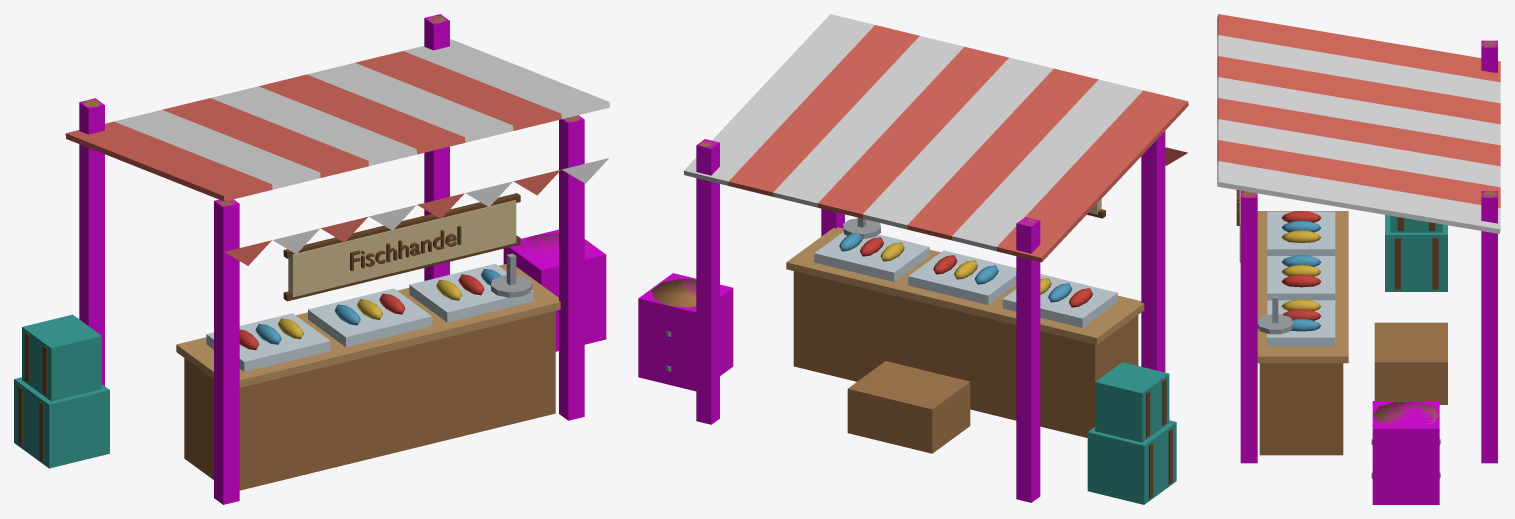
Rendered from trader_stall-EeB0j7eA.glb.
3 renders of one model, left to right at view 1: azimuth 30°, elevation 25°; view 2: azimuth 150°, elevation 25°; view 3: azimuth 270°, elevation 25°, orthographic. The views are drawn at different scales.
Parts seen in each view (by area): view 1: trader_stall, COLP_trader_stall, COL_trader_stall; view 2: trader_stall, COLP_trader_stall, COL_trader_stall; view 3: trader_stall, COLP_trader_stall, COL_trader_stall.
Boxes of the visible parts, <box> form: trader_stall: <box>14,16,609,490</box>; COLP_trader_stall: <box>79,14,584,504</box>; COL_trader_stall: <box>503,229,606,351</box>; trader_stall: <box>652,14,1188,504</box>; COLP_trader_stall: <box>696,131,1165,502</box>; COL_trader_stall: <box>638,273,733,391</box>; trader_stall: <box>1217,14,1500,478</box>; COLP_trader_stall: <box>1240,40,1497,463</box>; COL_trader_stall: <box>1372,401,1439,504</box>.
Size of the model in its own units: 5.43 by 3.03 by 2.71.
